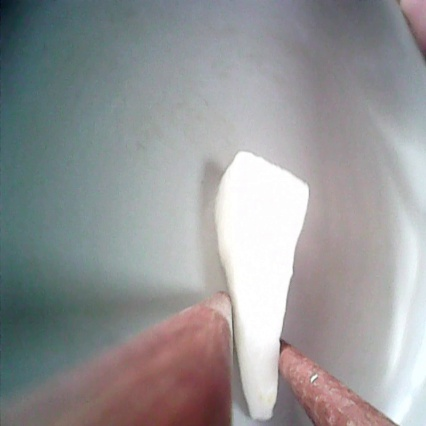white_chinese-yam: (211, 148, 318, 421)
